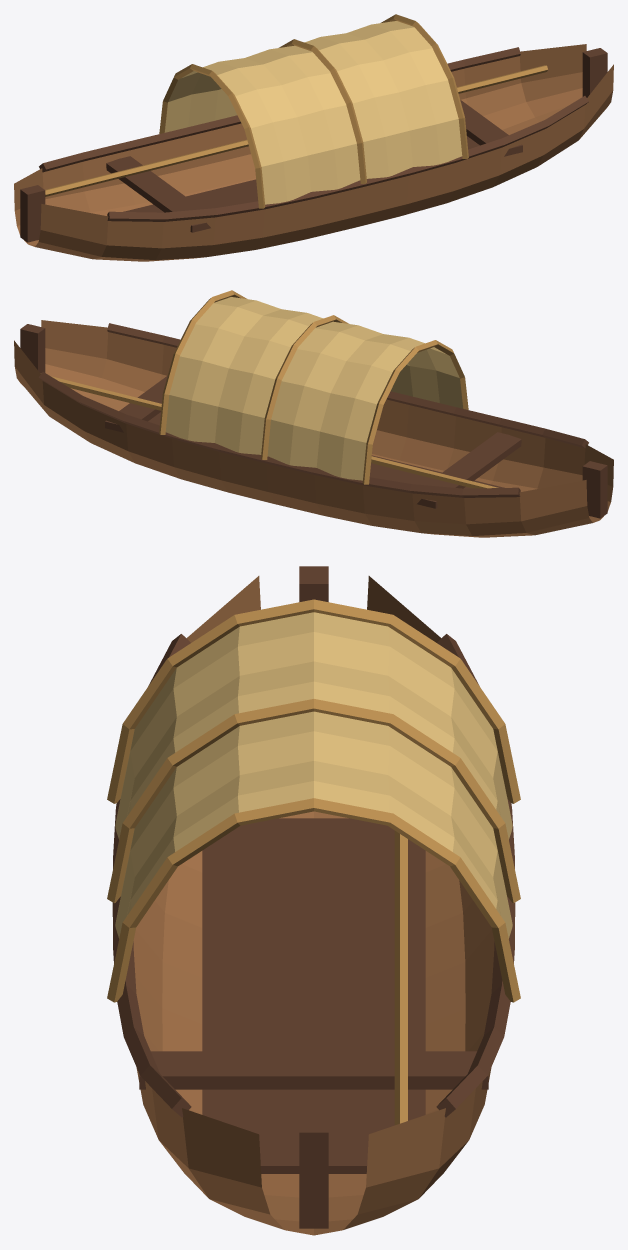
The model's file is boat_wooden.glb.
The picture shows the model from 3 angles, top to bottom: view 1: azimuth 30°, elevation 25°; view 2: azimuth 150°, elevation 25°; view 3: azimuth 270°, elevation 25°; orthographic projection. The views are drawn at different scales.
Parts seen in each view (by area): view 1: boat_wooden; view 2: boat_wooden; view 3: boat_wooden.
Boxes of the visible parts, x1,y1,x2,y2 form: boat_wooden: [14, 14, 613, 261]; boat_wooden: [14, 290, 613, 537]; boat_wooden: [107, 566, 520, 1235].
Size of the model in its own units: 4.56 by 1.27 by 1.41.
